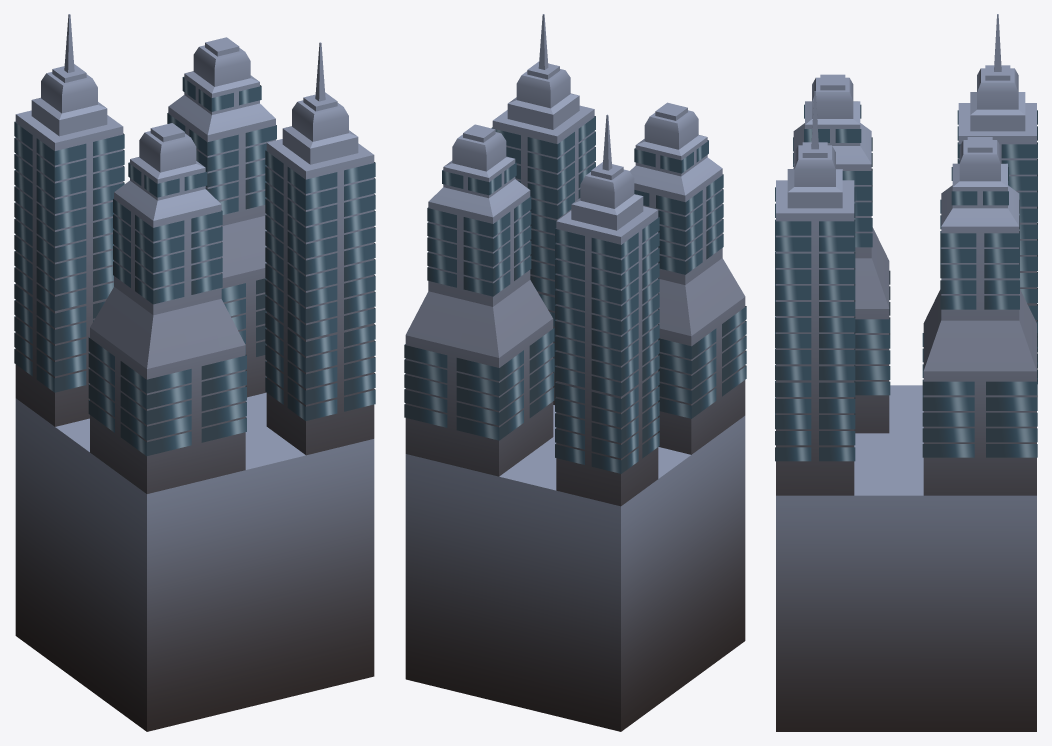
Rendered from skyscraper_city_tile.fbx.
3 renders of one model, left to right at view 1: azimuth 30°, elevation 25°; view 2: azimuth 150°, elevation 25°; view 3: azimuth 270°, elevation 25°, orthographic. The views are drawn at different scales.
Visible parts, largest first — view 1: grp_geo_skyscrapers2; view 2: grp_geo_skyscrapers2; view 3: grp_geo_skyscrapers2.
Part boxes in pixels (box(x1,y1,x2,y2)): grp_geo_skyscrapers2: box(14, 14, 375, 731); grp_geo_skyscrapers2: box(404, 14, 746, 731); grp_geo_skyscrapers2: box(775, 14, 1037, 731).
Size of the model in its own units: 80.64 by 211 by 80.64.
